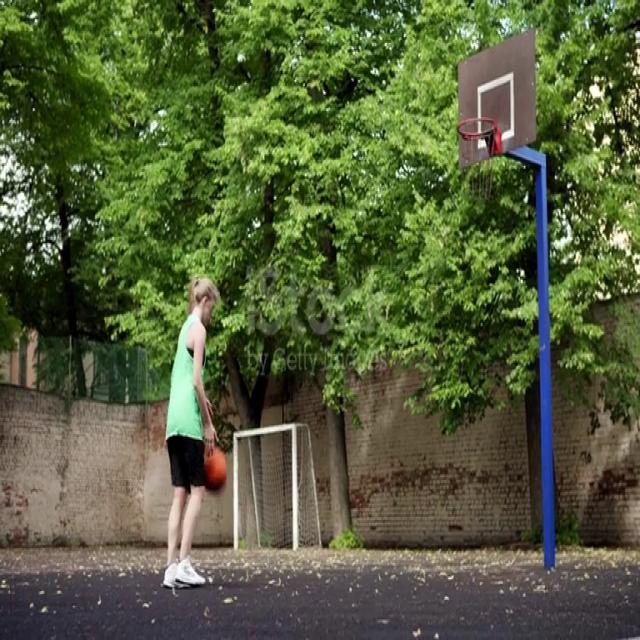ball: (202, 446, 228, 493)
